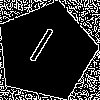I: (21, 26, 57, 72)
